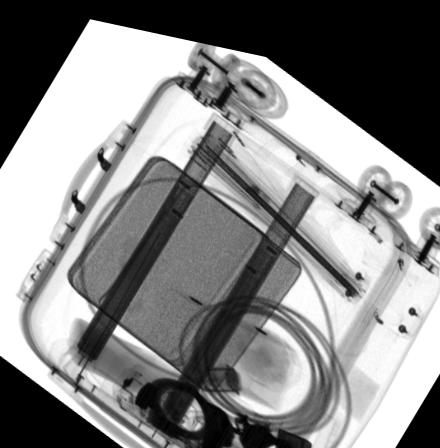Baton: (115, 381, 234, 448)
HandCuffs: (133, 369, 301, 448)
Lighter: (273, 414, 313, 448)
